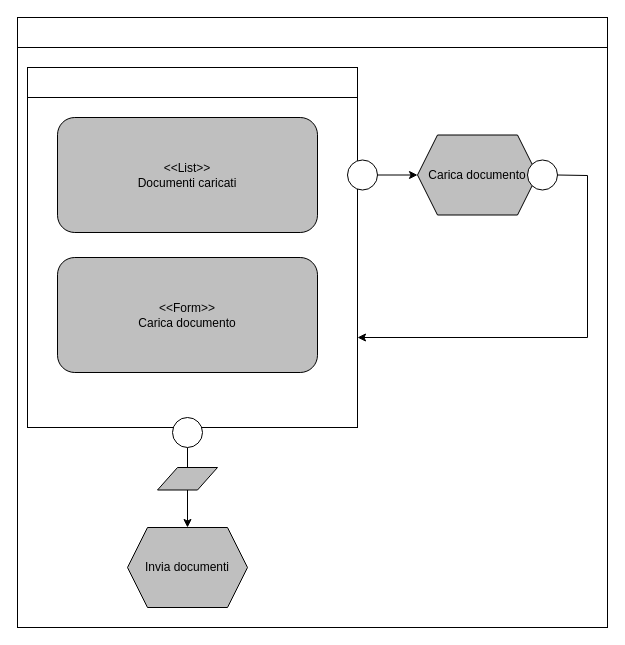
Some shapes in this 625 by 645 pixel diagram are drawn without their labels. The centre of each missing label's shape, as x and y in pixels:
"Documenti" belongs at pixel 312 32.
"Documenti e moduli" belongs at pixel 192 82.
